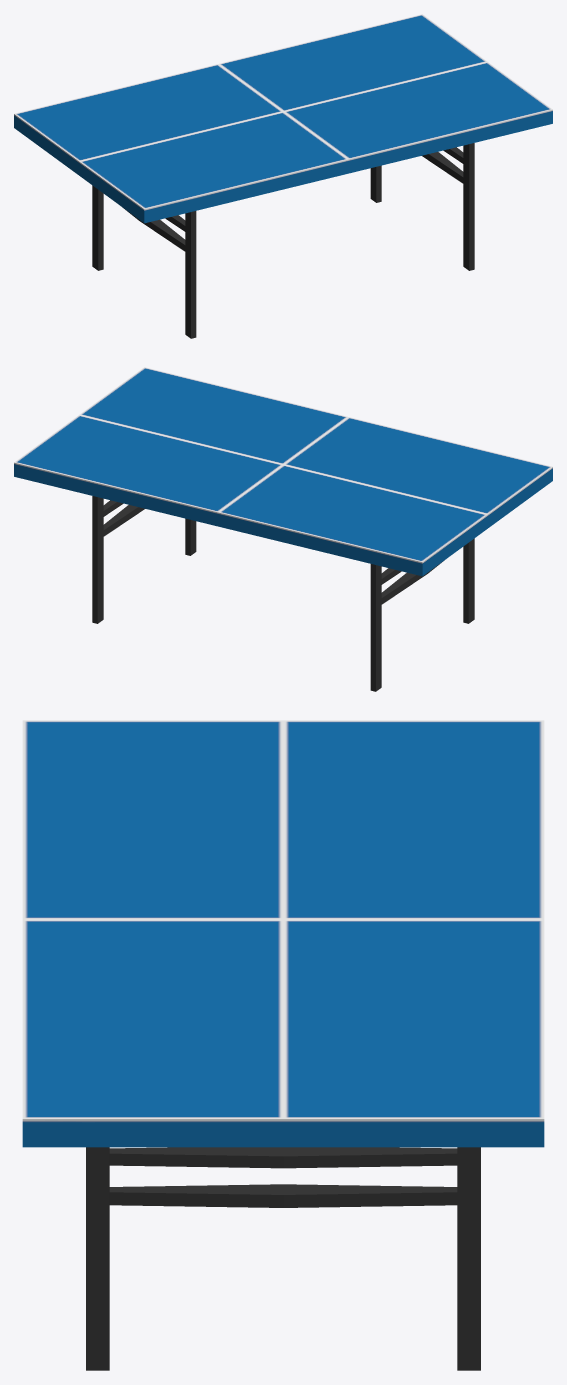
The model's file is Table.glb.
The picture shows the model from 3 angles, top to bottom: view 1: azimuth 30°, elevation 25°; view 2: azimuth 150°, elevation 25°; view 3: azimuth 270°, elevation 25°; orthographic projection. The views are drawn at different scales.
Visible parts, largest first — view 1: Table, Cube; view 2: Table, Cube; view 3: Table, Cube.
Part boxes in pixels (x1=…): Table: x1=14, y1=14, x2=552, y2=223; Cube: x1=92, y1=143, x2=474, y2=338; Table: x1=14, y1=367, x2=552, y2=576; Cube: x1=92, y1=496, x2=474, y2=691; Table: x1=22, y1=720, x2=544, y2=1147; Cube: x1=86, y1=1147, x2=480, y2=1370.
Bounding box in the file's own units: 2.73 × 1 × 1.51.
2 materials, 1 textured.
